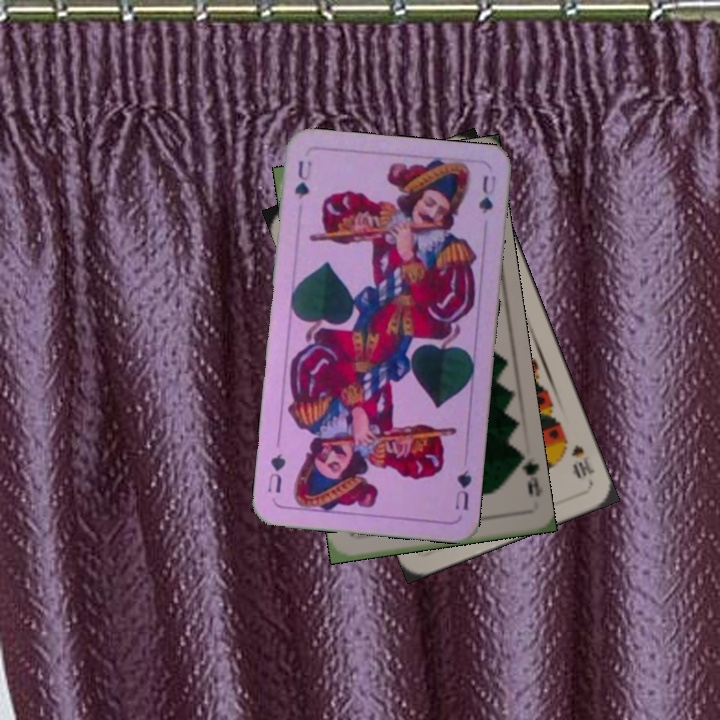G9: (511, 449, 543, 499)
GU: (451, 465, 475, 513), (290, 157, 315, 202)
S10: (567, 440, 597, 481)
